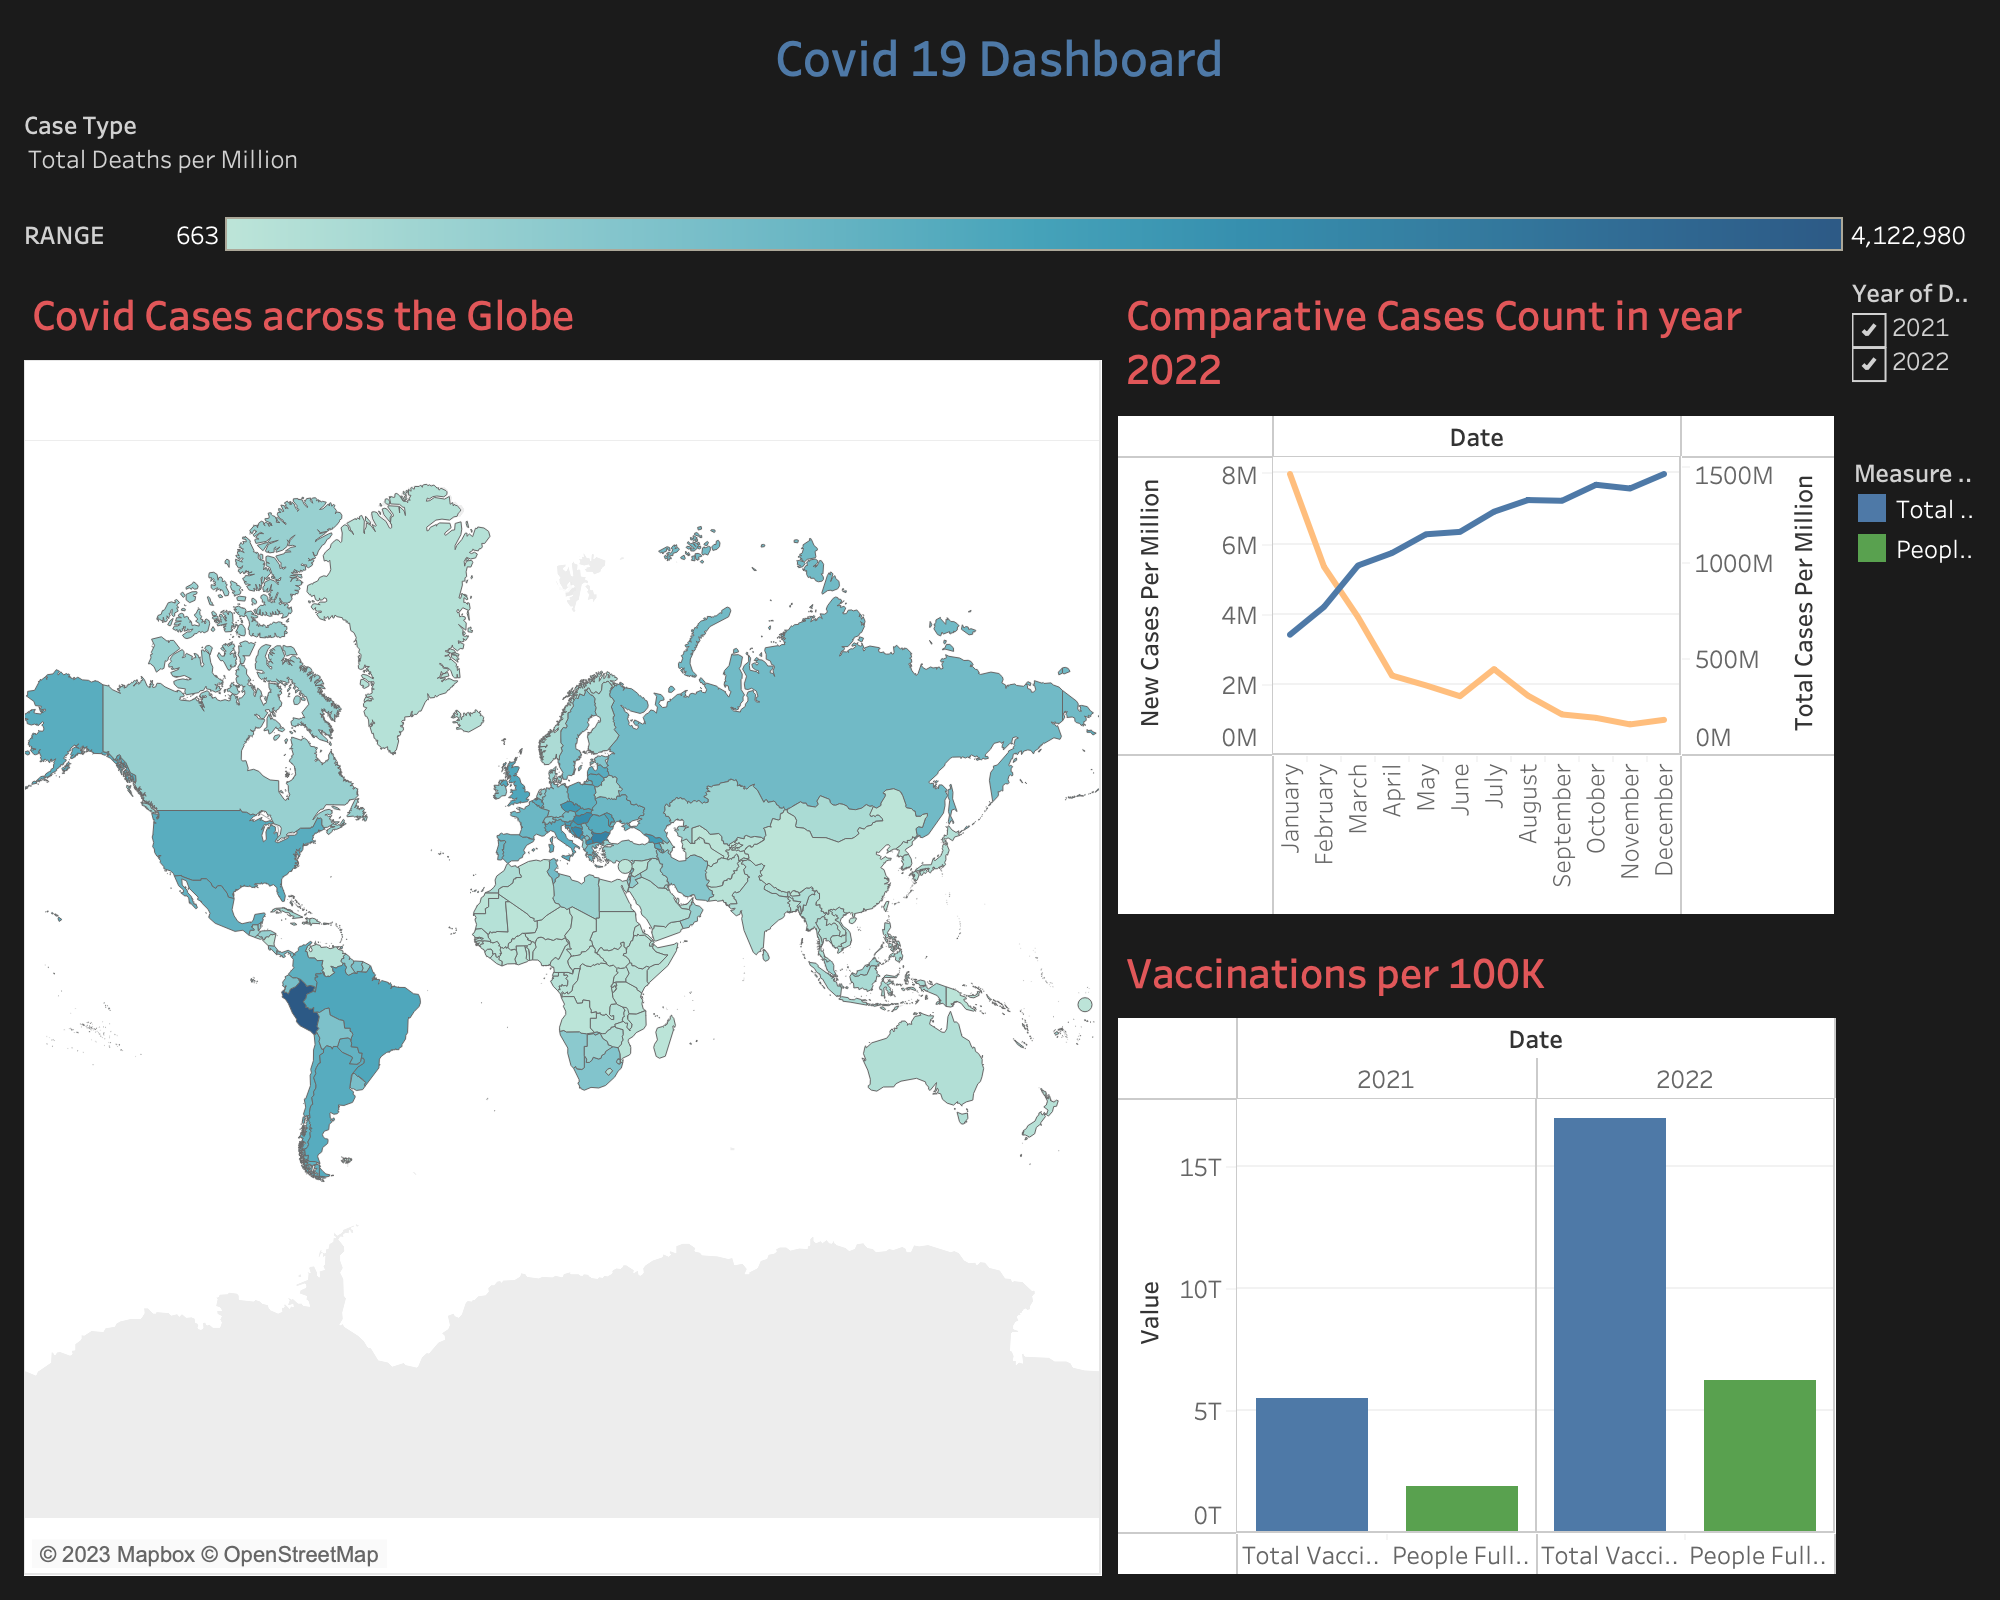

Layout of this report page (visuals, bound fields, positions):
{"tool":"tableau","page":{"name":"Dashboard 1","canvas":[1000,800],"ordinal":0},"visuals":[{"type":"title","box":[8,8,984,41]},{"type":"parameter","param":"[Parameters].[Parameter 1]","box":[8,49,984,52]},{"type":"legend","title":"Covid Cases per Million","param":"[federated.0gqrswm003zmmg1epvw1k1w023it].[sum:Calculation_1752674346762137601:qk","box":[8,101,984,32]},{"type":"worksheet","title":"Covid Cases per Million","mark":"Multipolygon","box":[8,133,547,659]},{"type":"worksheet","title":"Cases count in year 2022","mark":"Line","rows":["new_cases_per_million","total_cases_per_million"],"cols":["date"],"box":[555,133,367,329.5]},{"type":"filter","title":"Covid Cases per Million","param":"[federated.0gqrswm003zmmg1epvw1k1w023it].[yr:date:ok]","box":[922,133,70,89]},{"type":"legend","title":"Vaccinations per 100K","param":"[federated.0gqrswm003zmmg1epvw1k1w023it].[:Measure Names]","box":[922,222,70,66]},{"type":"worksheet","title":"Vaccinations per 100K","mark":"Bar","cols":["date"],"box":[555,462.5,367,329.5]}]}

Visuals, with their boxes in screenshot pixels (x1, y1, x2, y2), scaled from the page's 1000x800 canvas onto the 2000x1600 screenshot:
title: [16, 16, 1984, 98]
parameter: [16, 98, 1984, 202]
"Covid Cases per Million" legend: [16, 202, 1984, 266]
"Covid Cases per Million" worksheet (Multipolygon marks): [16, 266, 1110, 1584]
"Cases count in year 2022" worksheet (Line marks): [1110, 266, 1844, 925]
"Covid Cases per Million" filter: [1844, 266, 1984, 444]
"Vaccinations per 100K" legend: [1844, 444, 1984, 576]
"Vaccinations per 100K" worksheet (Bar marks): [1110, 925, 1844, 1584]
